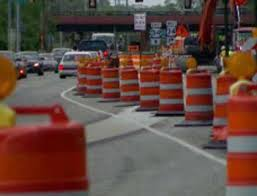barrel: (229, 98, 257, 194), (185, 72, 212, 120), (215, 80, 232, 145), (158, 70, 183, 114), (138, 70, 162, 108), (119, 69, 138, 99), (101, 69, 119, 97), (87, 68, 101, 94), (78, 66, 88, 91)
